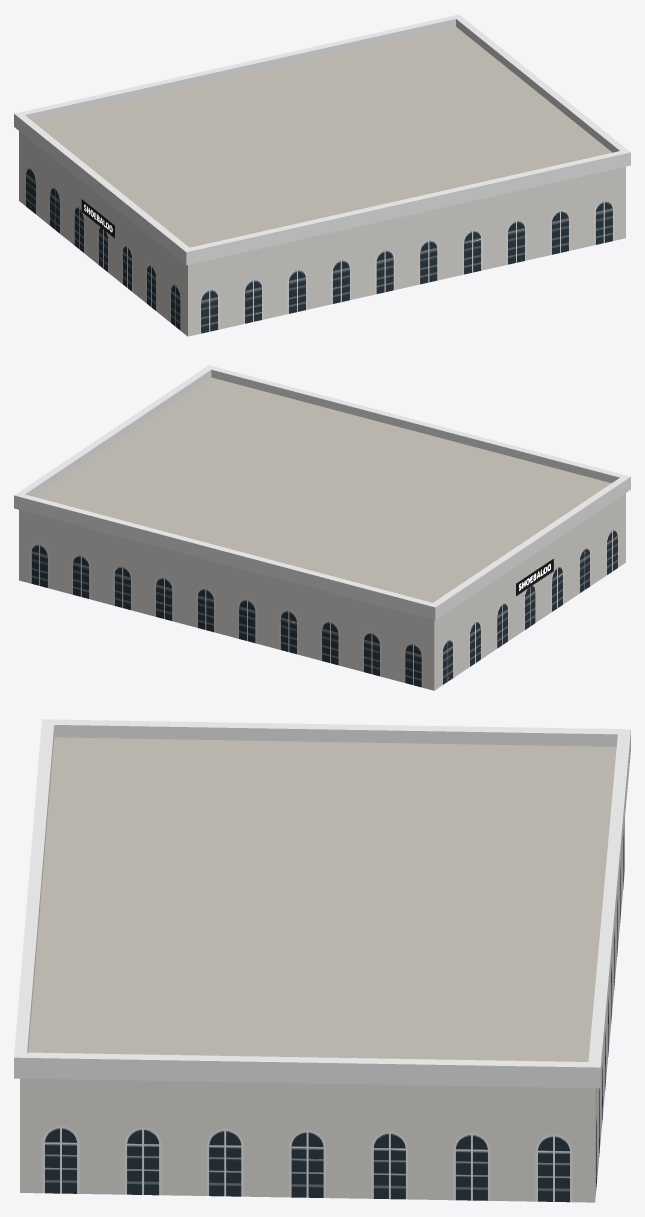
Rendered from shoebaloo.glb.
The picture shows the model from 3 angles, top to bottom: view 1: azimuth 30°, elevation 25°; view 2: azimuth 150°, elevation 25°; view 3: azimuth 270°, elevation 25°; orthographic projection. The views are drawn at different scales.
Visible parts, largest first — view 1: shoebaloo_lod0; view 2: shoebaloo_lod0; view 3: shoebaloo_lod0.
Boxes of the visible parts, x1,y1,x2,y2 form: shoebaloo_lod0: (14,14,630,336); shoebaloo_lod0: (14,365,630,690); shoebaloo_lod0: (14,719,630,1202).
Size of what is drawn, in the model's own units: 35.82 by 6.6 by 26.82.
5 materials, 2 textured.
